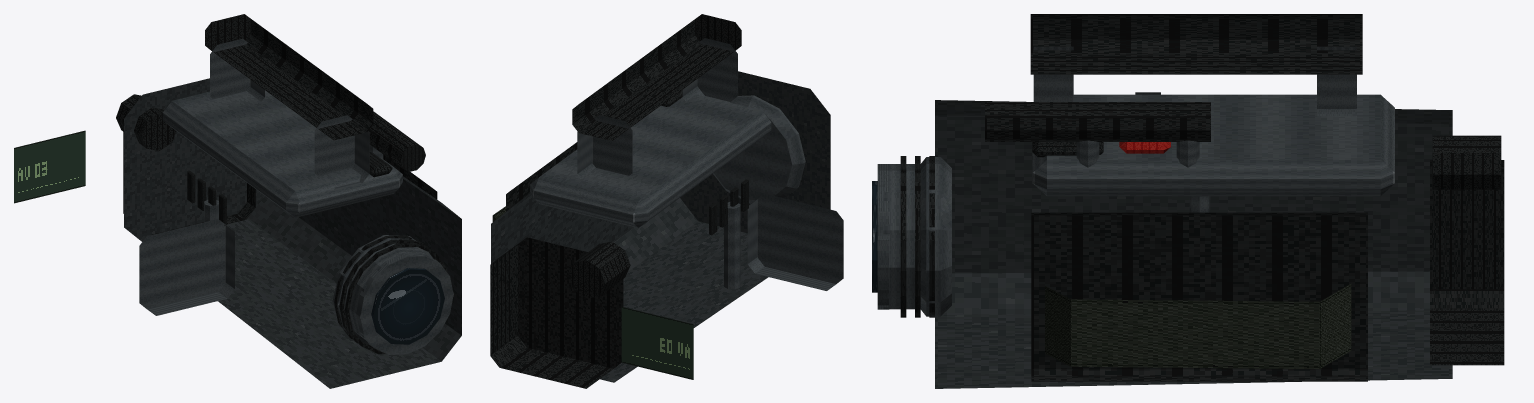
The model's file is blender_video_camera_3.glb.
The picture shows the model from 3 angles, left to right: view 1: azimuth 30°, elevation 25°; view 2: azimuth 150°, elevation 25°; view 3: azimuth 270°, elevation 25°; orthographic projection. The views are drawn at different scales.
Parts seen in each view (by area): view 1: blender_video_camera_3; view 2: blender_video_camera_3; view 3: blender_video_camera_3.
Part boxes in pixels (x1,y1,x2,y2): blender_video_camera_3: [14, 14, 461, 388]; blender_video_camera_3: [490, 14, 843, 388]; blender_video_camera_3: [872, 14, 1504, 388].
Size of the model in its own units: 0.1536 by 0.1262 by 0.2265.
7 materials, 7 textured.
